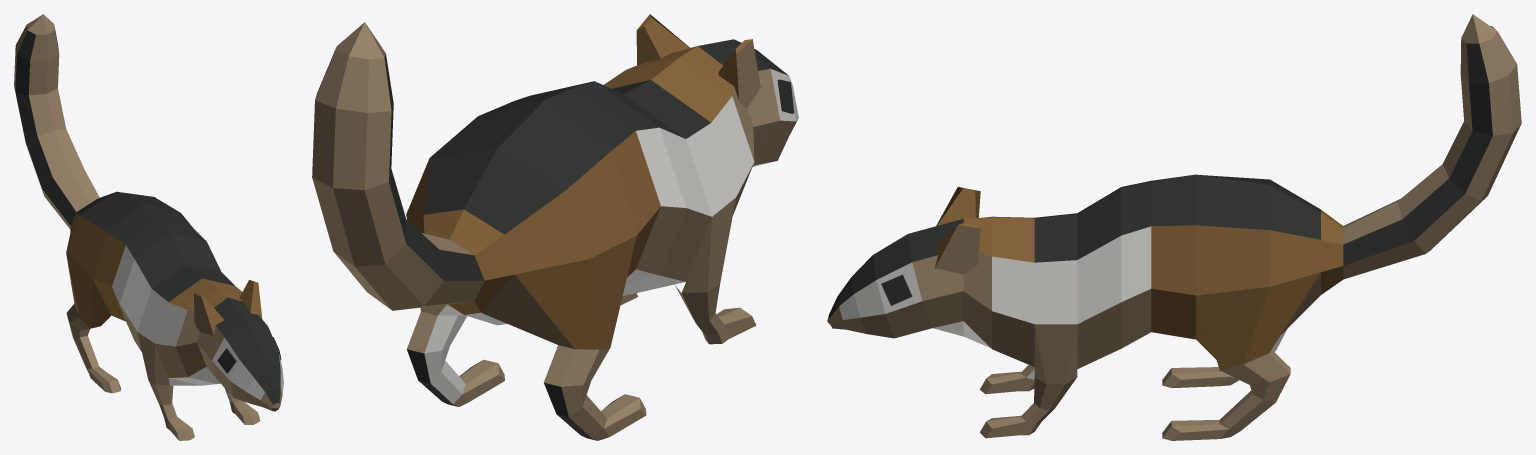
3 renders of one model, left to right at view 1: azimuth 30°, elevation 25°; view 2: azimuth 150°, elevation 25°; view 3: azimuth 270°, elevation 25°, orthographic. The views are drawn at different scales.
Parts seen in each view (by area): view 1: Geo_Chipmunk; view 2: Geo_Chipmunk; view 3: Geo_Chipmunk.
Part boxes in pixels (box(x1,y1,x2,y2)): Geo_Chipmunk: box(14, 14, 283, 440); Geo_Chipmunk: box(312, 14, 798, 440); Geo_Chipmunk: box(827, 14, 1521, 440).
Size of the model in its own units: 17.15 by 46.19 by 73.23.
1 material, 1 textured.
